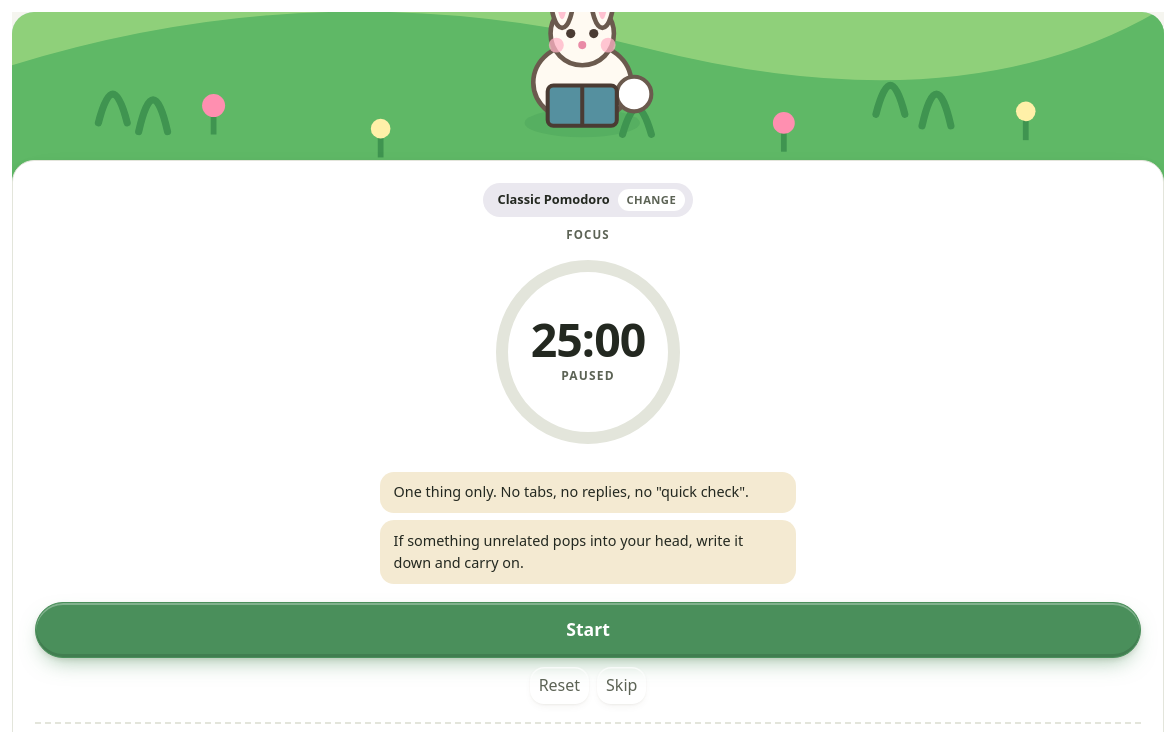
FocusTimer — reminders come from the buddy › swaps to break reminders once the phase changes
// Skip moves straight to the break without waiting 25 minutes.
Click the button "Skip" at (622, 685), box [597,666,646,704]
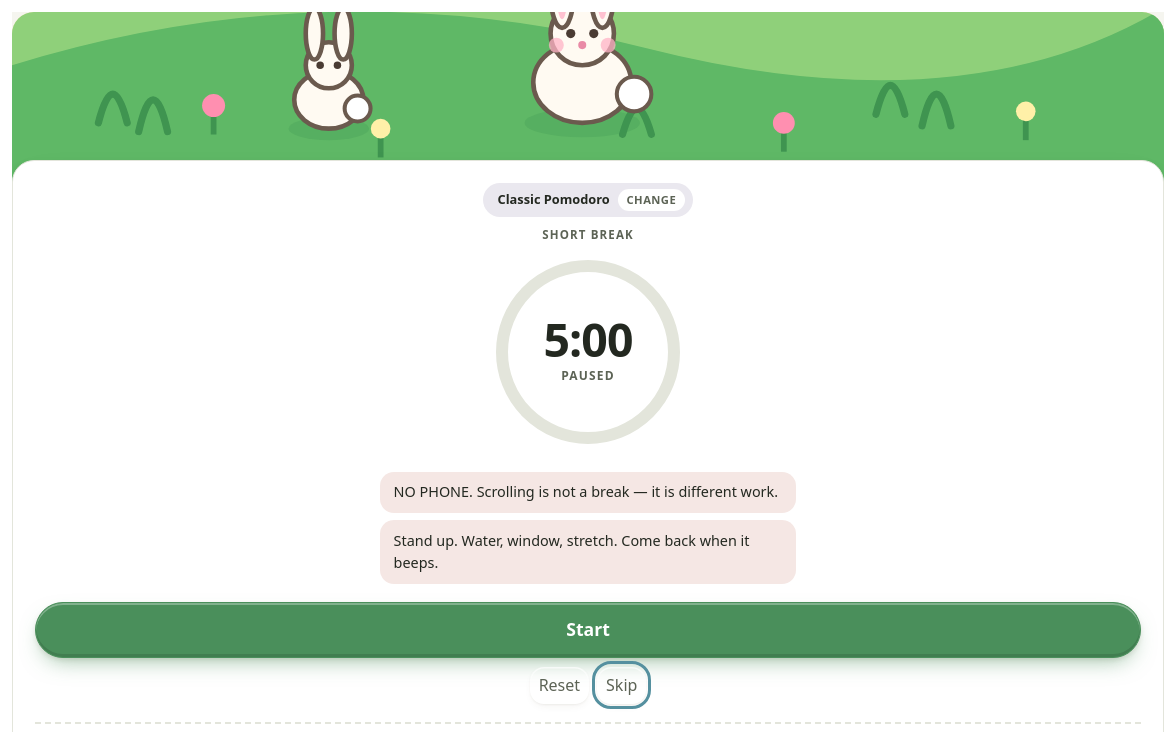
Expected: the text "5:00" is shown, [543,307,632,371]
Now the list item "NO PHONE. Scrolling is not a break — it is different work." is shown, box [380,472,796,513]
